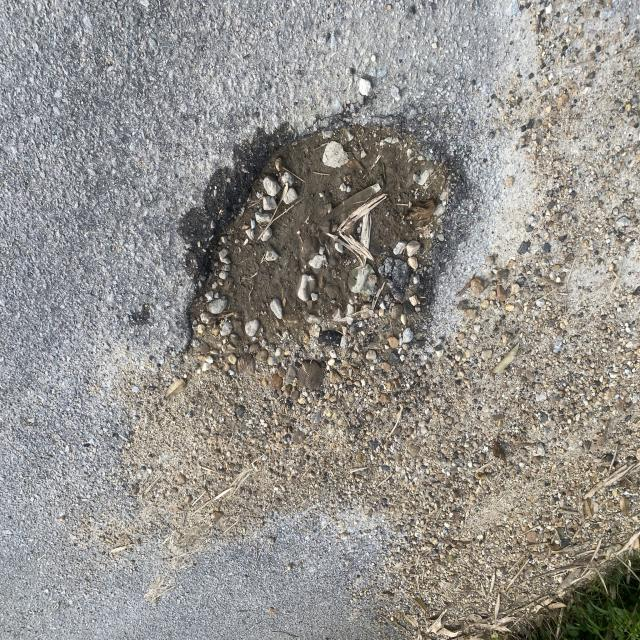pothole: (157, 86, 494, 422)
